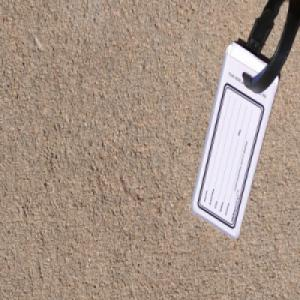LuggageTag: (190, 0, 300, 240)
